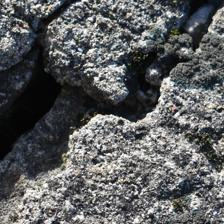Crack: (45, 8, 160, 179), (78, 0, 138, 100)
